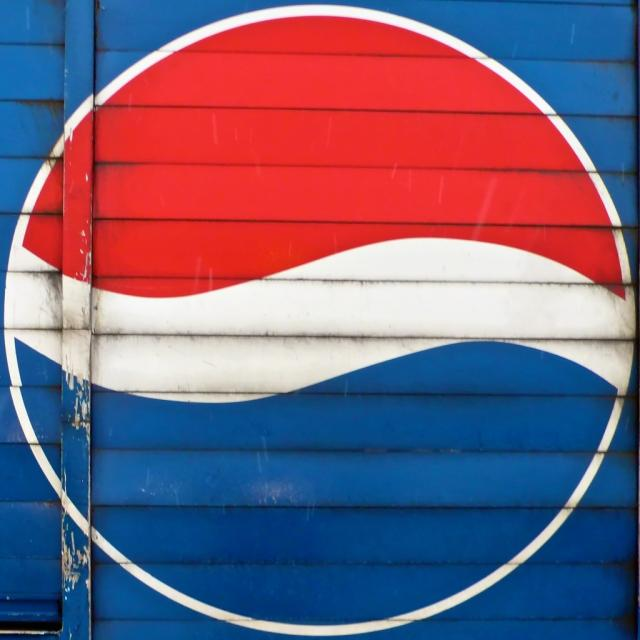pepsi: (2, 3, 640, 639)
